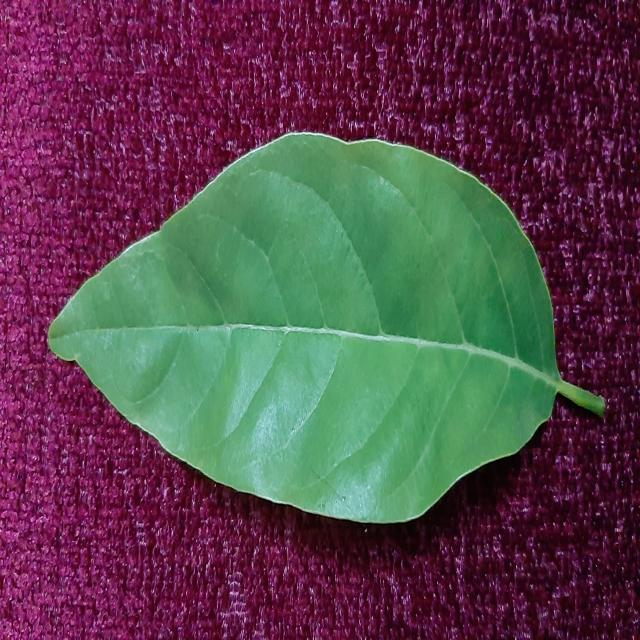seethaphala: (49, 133, 605, 523)
